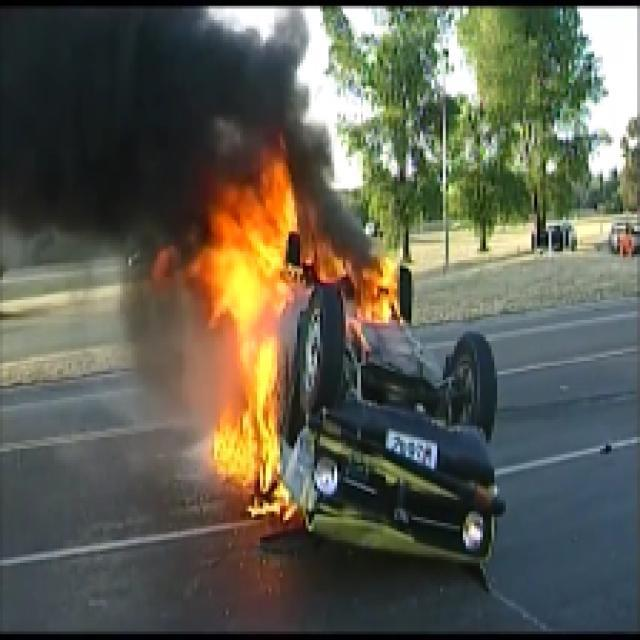Fire: (194, 154, 300, 526), (302, 243, 398, 323)
Smoke: (3, 8, 206, 243)
